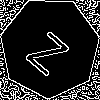Z: (24, 22, 77, 77)
